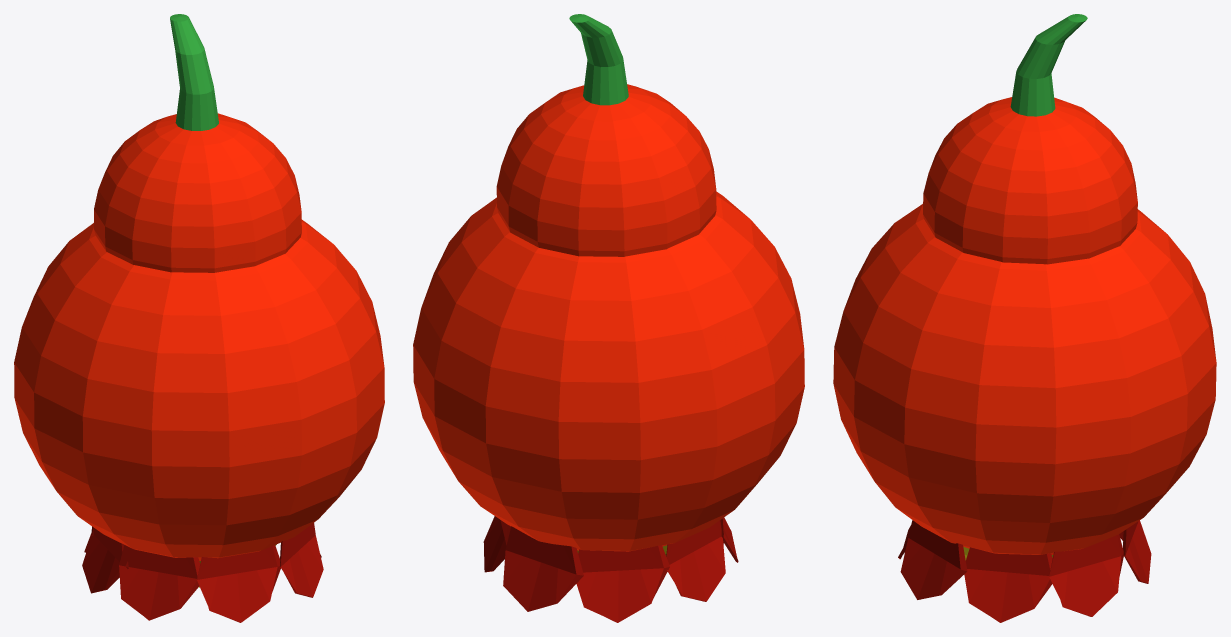
Rendered from pomeg.fbx.
3 views of the same model, side by side, from view 1: azimuth 30°, elevation 25°; view 2: azimuth 150°, elevation 25°; view 3: azimuth 270°, elevation 25° (orthographic). The views are drawn at different scales.
Visible parts, largest first — view 1: Pomeg2; view 2: Pomeg2; view 3: Pomeg2.
Part boxes in pixels (x1=…): Pomeg2: x1=14, y1=14, x2=384, y2=622; Pomeg2: x1=413, y1=14, x2=804, y2=622; Pomeg2: x1=833, y1=14, x2=1216, y2=622.
Size of the model in its own units: 132 by 214 by 133.
